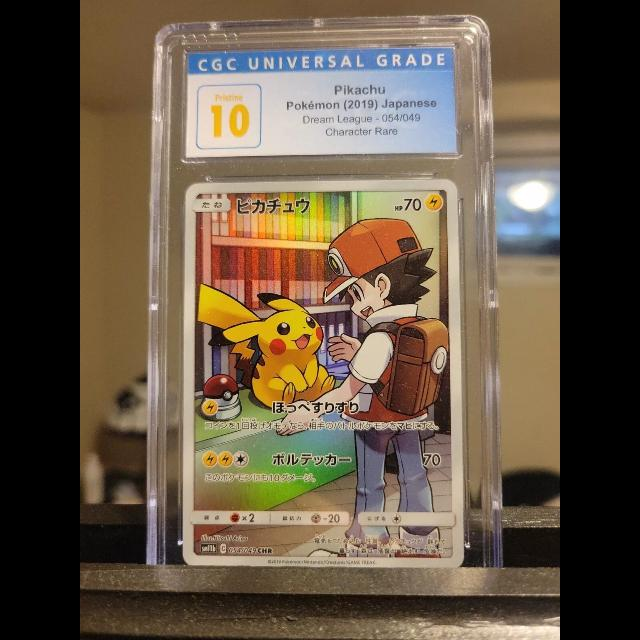card: (181, 179, 466, 567)
cgc_label_old: (184, 47, 458, 158)
